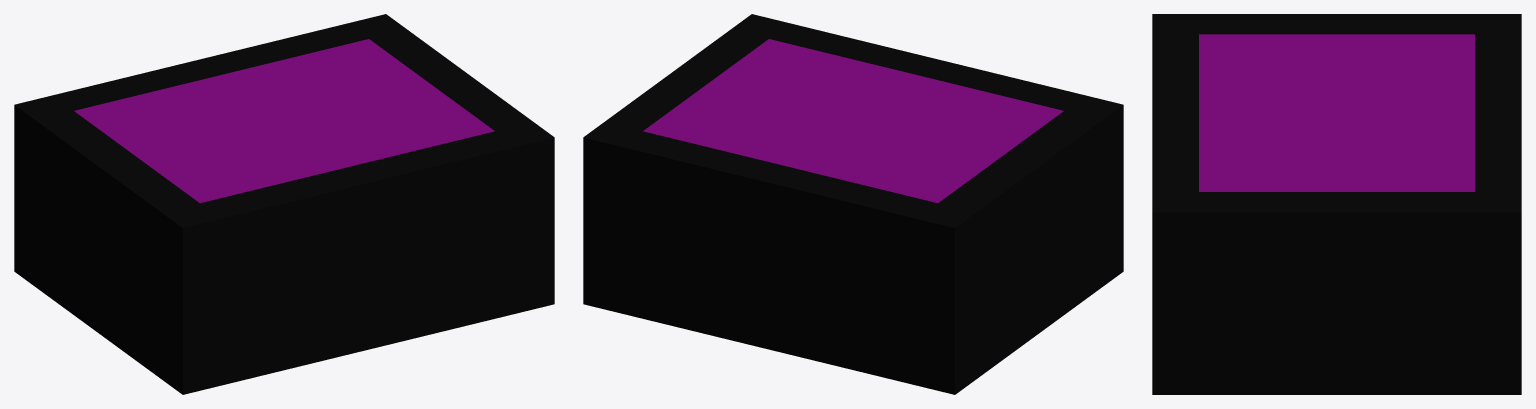
The model's file is ore_package.dae.
3 renders of one model, left to right at view 1: azimuth 30°, elevation 25°; view 2: azimuth 150°, elevation 25°; view 3: azimuth 270°, elevation 25°, orthographic. The views are drawn at different scales.
Visible parts, largest first — view 1: Part Studio 1 (1); view 2: Part Studio 1 (1); view 3: Part Studio 1 (1).
Part boxes in pixels (x1,y1,x2,y2): Part Studio 1 (1): (14,14,554,394); Part Studio 1 (1): (583,14,1123,394); Part Studio 1 (1): (1152,14,1521,394).
Bounding box in the file's own units: 0.1778 × 0.1397 × 0.0762.
